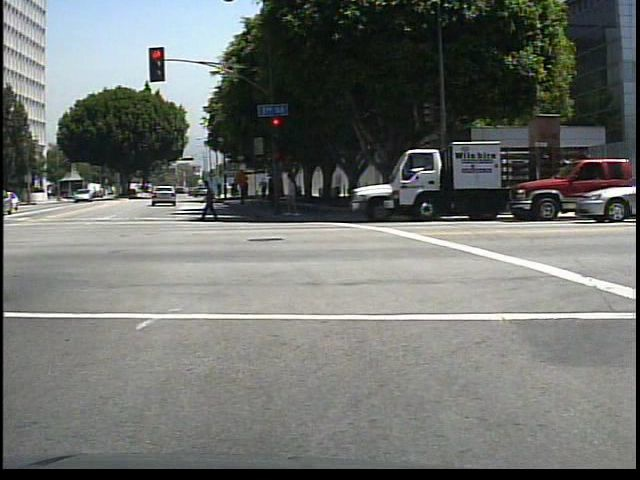person: (280, 169, 306, 218), (199, 178, 224, 222), (265, 171, 281, 215), (257, 176, 269, 200)
